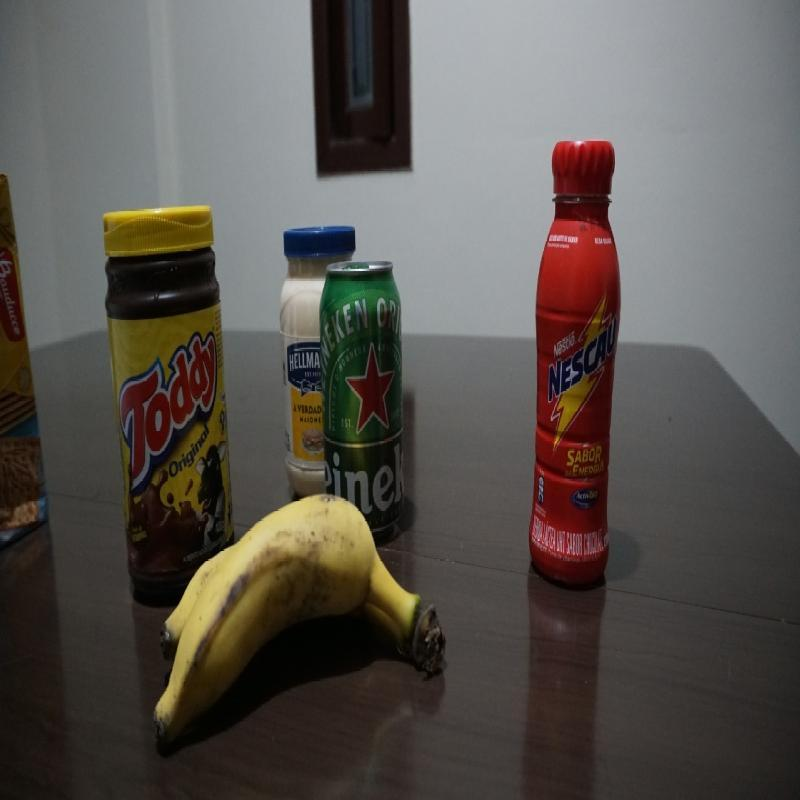Banana: (151, 492, 450, 751)
Beer can: (316, 256, 405, 547)
Chocolate Milk: (527, 134, 622, 588)
Chocolate Powder: (101, 205, 237, 606)
Cracker: (1, 168, 50, 558)
Mayonnaise: (279, 214, 360, 506)
